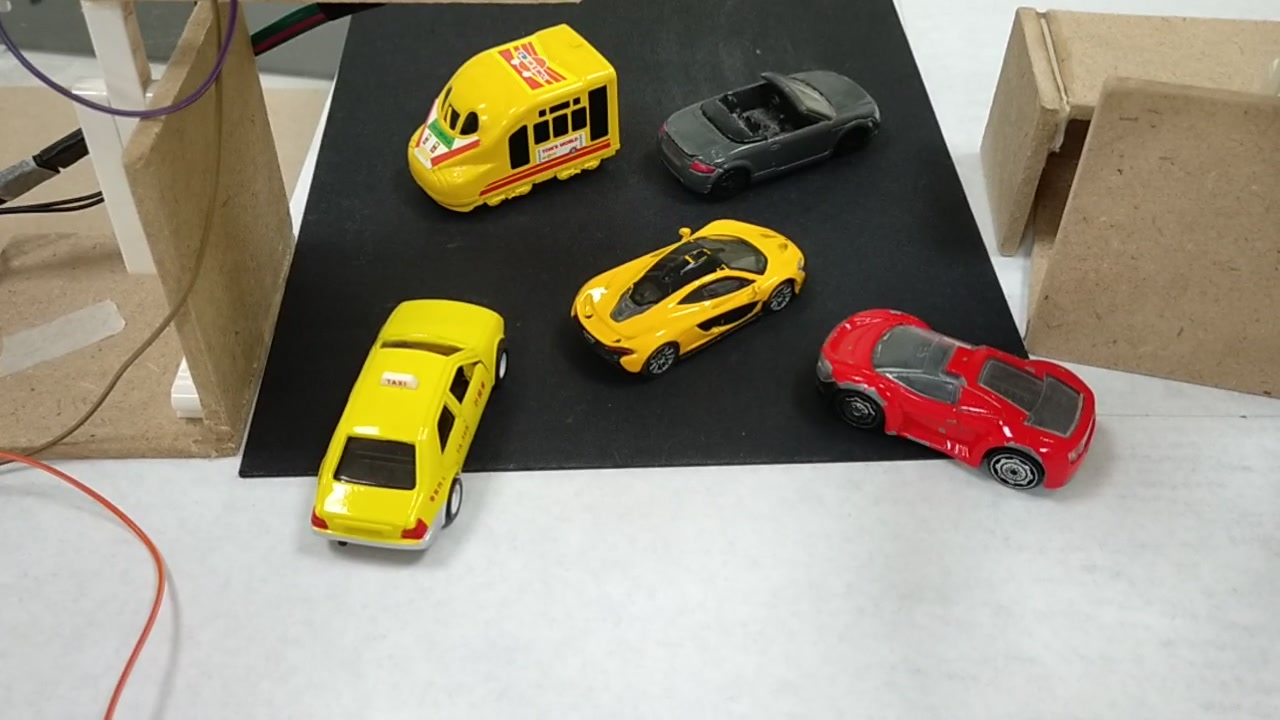car: (818, 318, 1103, 497), (310, 315, 515, 550), (573, 229, 811, 372), (645, 66, 887, 199)
